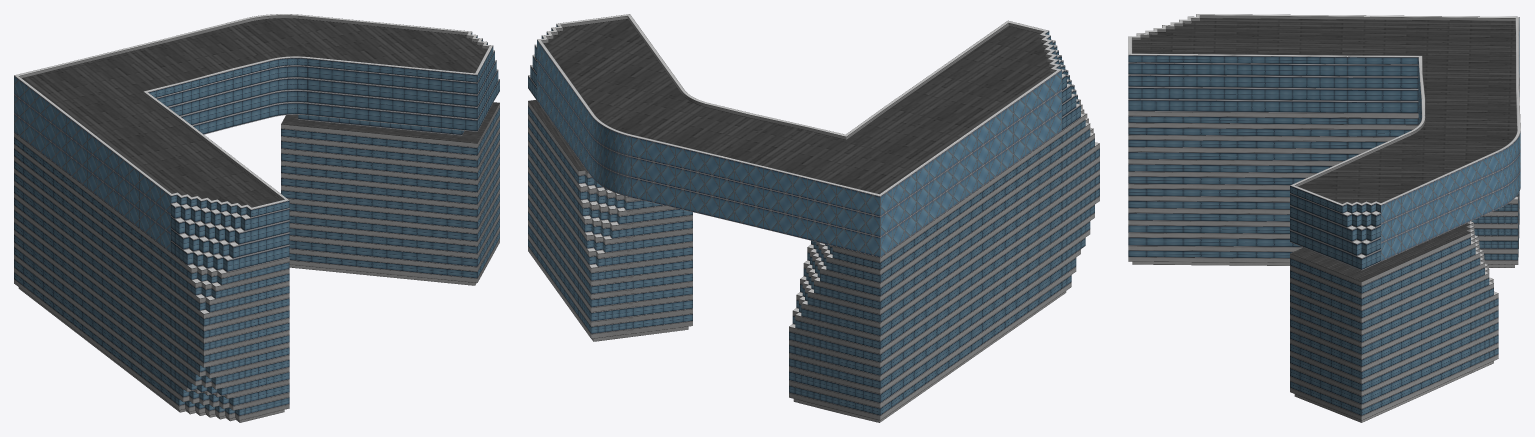
3 views of the same model, side by side, from view 1: azimuth 30°, elevation 25°; view 2: azimuth 150°, elevation 25°; view 3: azimuth 270°, elevation 25° (orthographic). The views are drawn at different scales.
Parts seen in each view (by area): view 1: MainBuilding; view 2: MainBuilding; view 3: MainBuilding.
Part boxes in pixels (box(x1,y1,x2,y2)): MainBuilding: box(14, 14, 499, 422); MainBuilding: box(528, 14, 1099, 422); MainBuilding: box(1128, 14, 1520, 422).
Size of the model in its own units: 1.48 by 0.726 by 1.22.
Materials: 1 (1 with a texture image).
